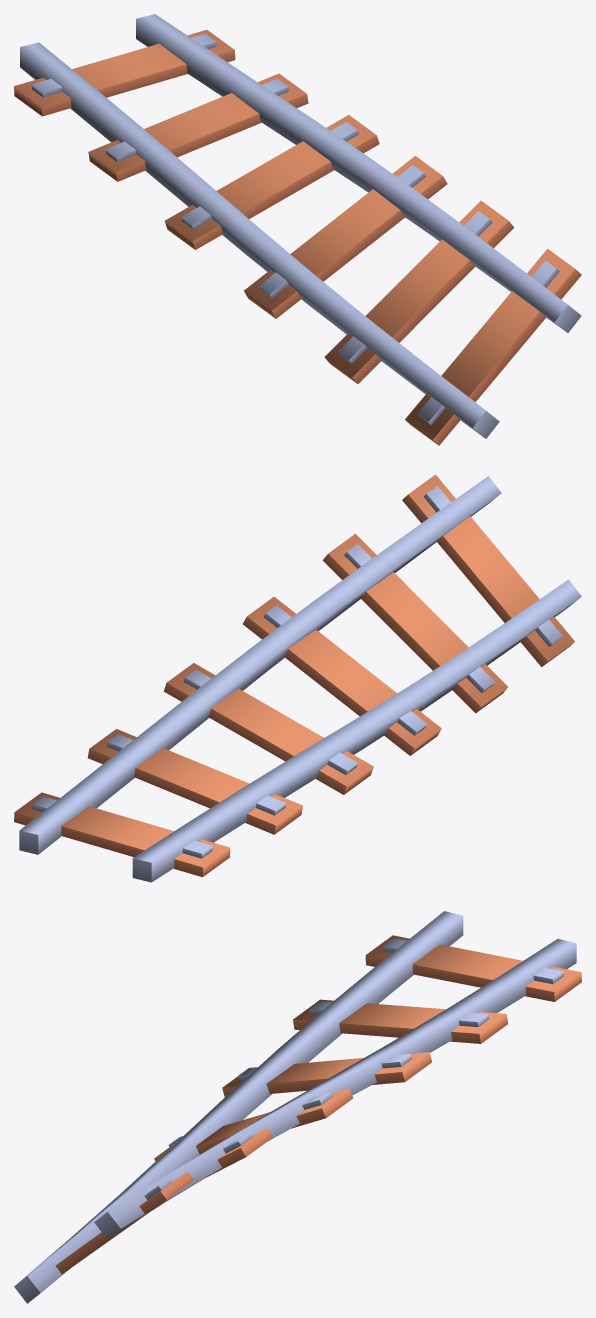
File: kenney-train-railroad-straight-skew-right.glb
3 renders of one model, top to bottom at view 1: azimuth 30°, elevation 25°; view 2: azimuth 150°, elevation 25°; view 3: azimuth 330°, elevation 25°, orthographic. The views are drawn at different scales.
Parts seen in each view (by area): view 1: railroad-straight-skew-right; view 2: railroad-straight-skew-right; view 3: railroad-straight-skew-right.
Part boxes in pixels (x1,y1,x2,y2): railroad-straight-skew-right: (14, 14, 581, 445); railroad-straight-skew-right: (14, 474, 581, 882); railroad-straight-skew-right: (14, 911, 581, 1303).
Bounding box in the file's own units: 1 × 0.7105 × 4.
1 material, 1 textured.
